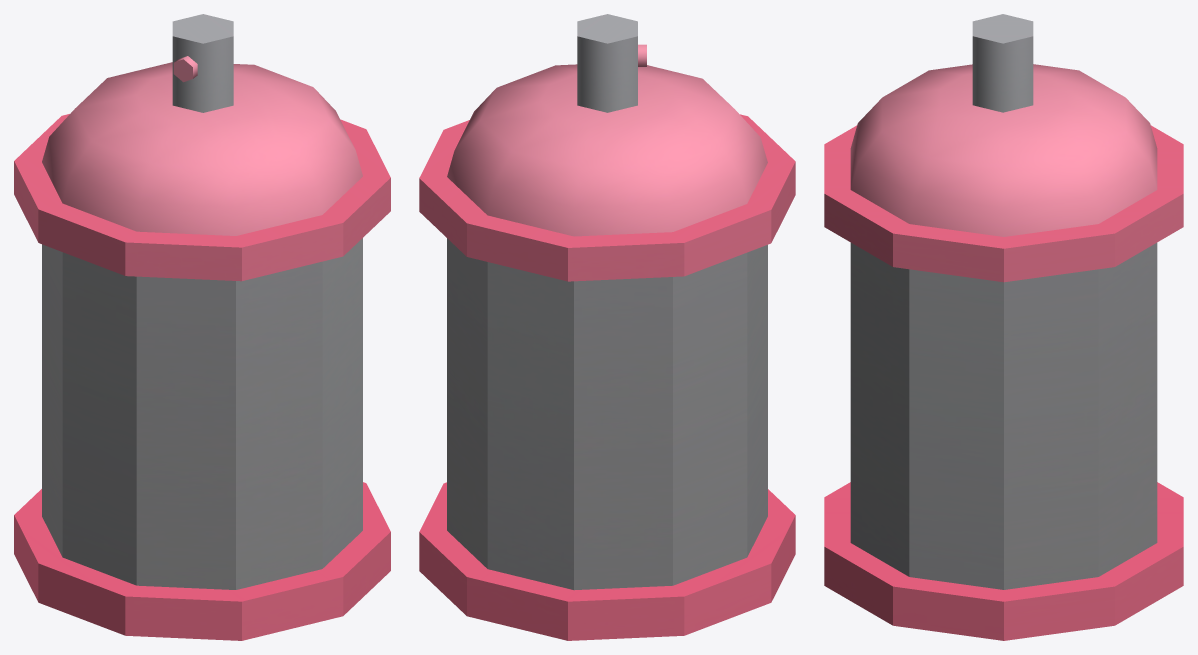
File: SM_Spray01.fbx
3 renders of one model, left to right at view 1: azimuth 30°, elevation 25°; view 2: azimuth 150°, elevation 25°; view 3: azimuth 270°, elevation 25°, orthographic.
Visible parts, largest first — view 1: SM_Spray01; view 2: SM_Spray01; view 3: SM_Spray01.
Boxes of the visible parts, bbox=[...] form: SM_Spray01: bbox=[14, 14, 390, 640]; SM_Spray01: bbox=[419, 14, 795, 640]; SM_Spray01: bbox=[824, 14, 1183, 640].
Size of the model in its own units: 13.94 by 21.68 by 13.26.
